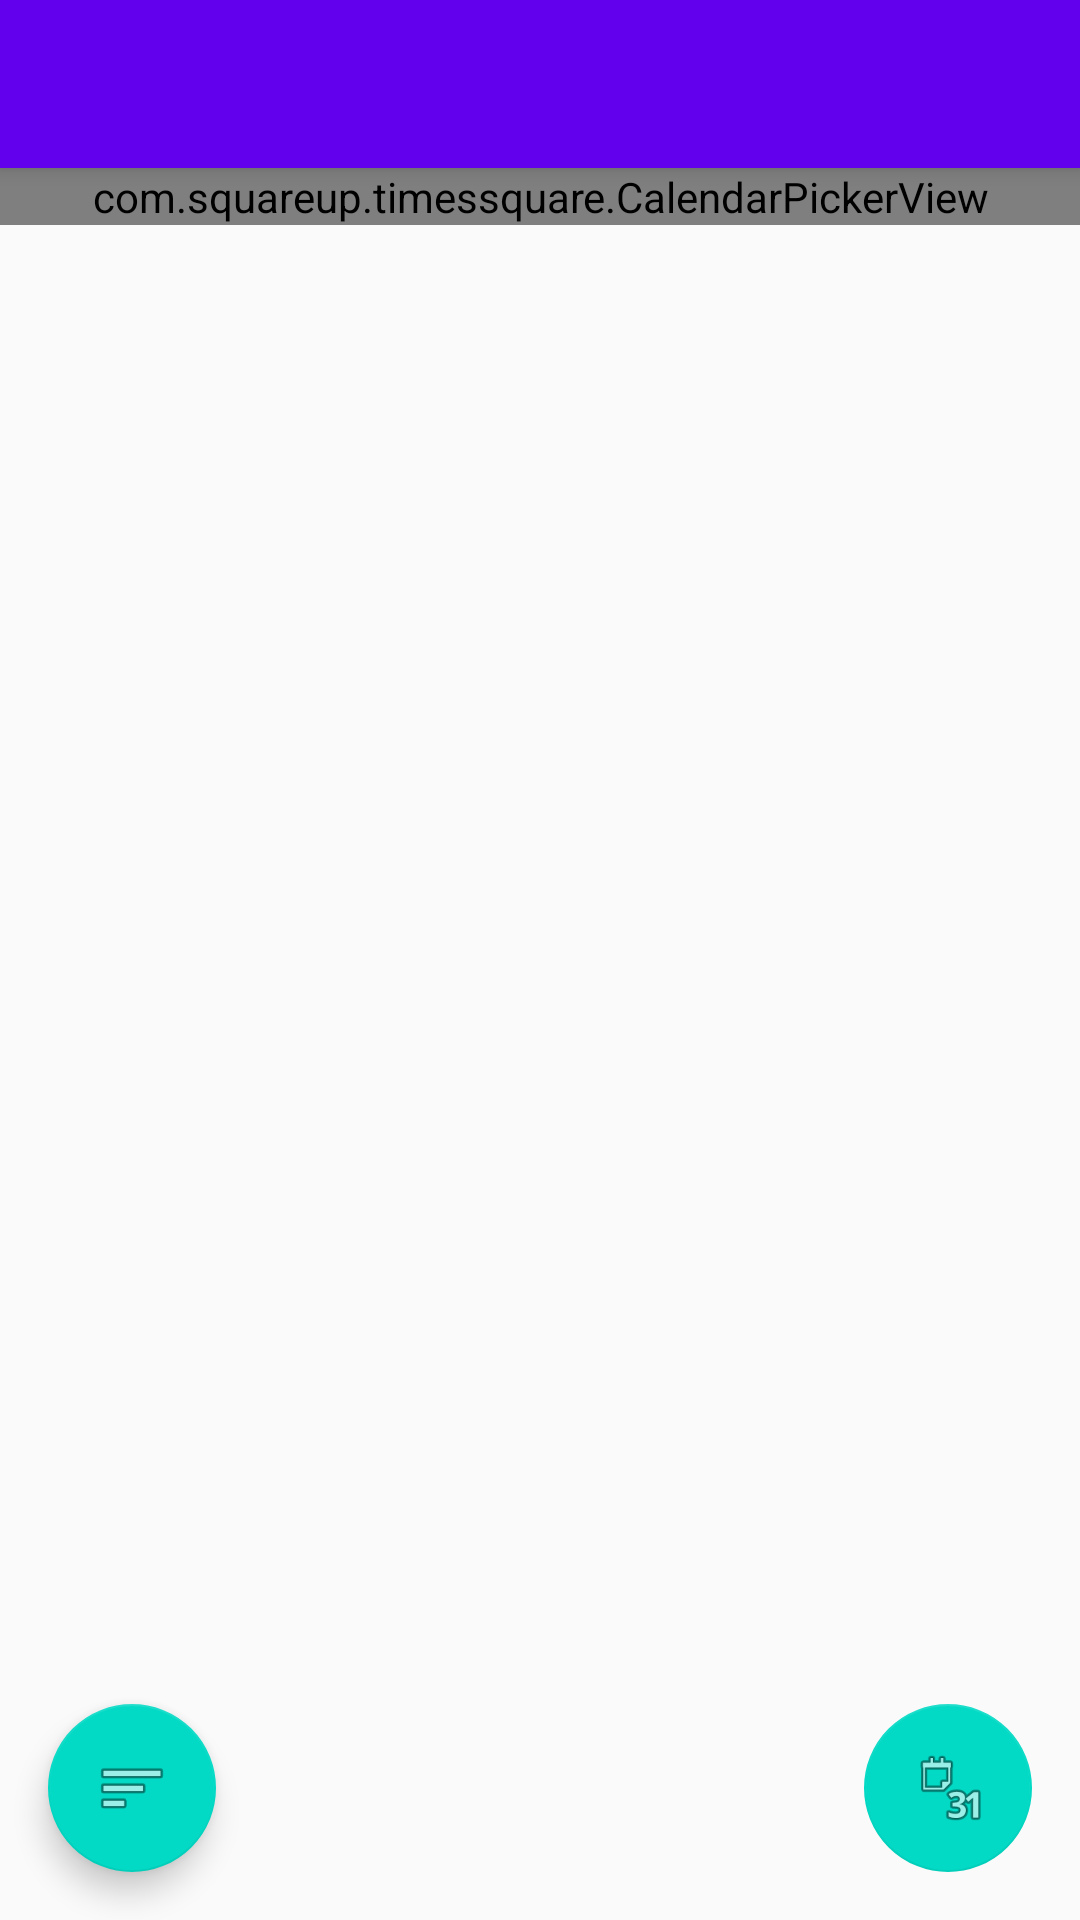

Screen size 1080×1920. Icon name, then its center in pixels as (x=x, y=y):
month: (x=948, y=1788)
sort by size: (x=132, y=1788)
